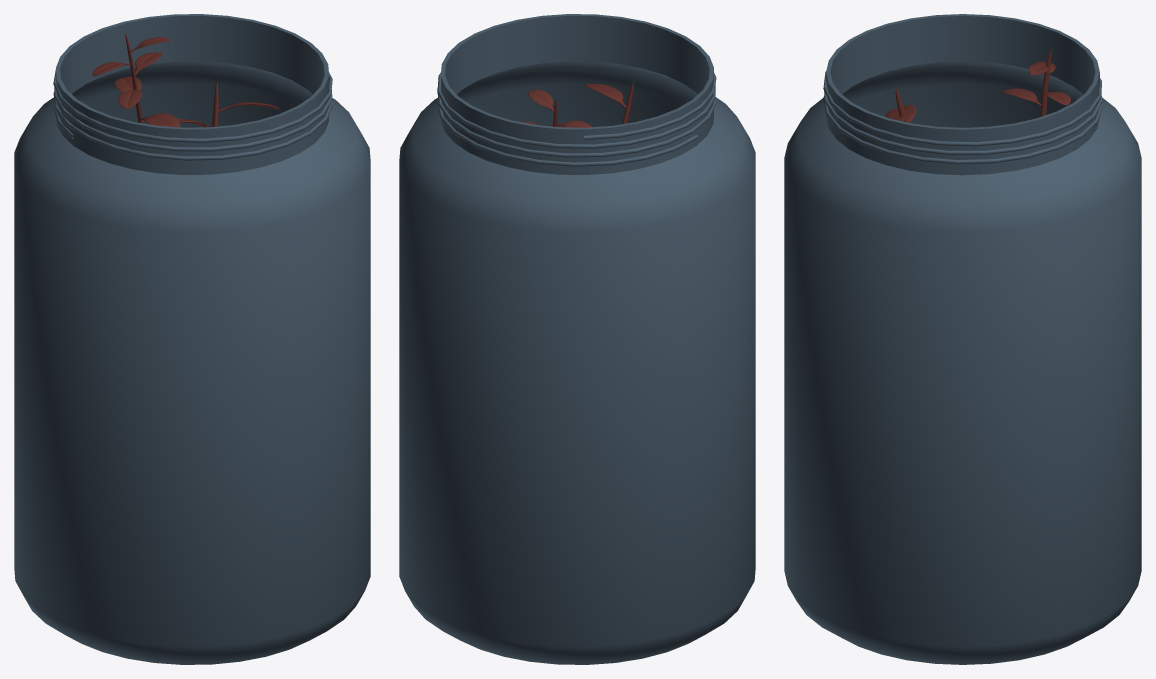
File: Jar_RedHerbs.fbx
3 renders of one model, left to right at view 1: azimuth 30°, elevation 25°; view 2: azimuth 150°, elevation 25°; view 3: azimuth 270°, elevation 25°, orthographic.
Visible parts, largest first — view 1: jar_with_herbsRed; view 2: jar_with_herbsRed; view 3: jar_with_herbsRed.
Part boxes in pixels (<box>): jar_with_herbsRed: <box>14,14,370,664</box>; jar_with_herbsRed: <box>399,14,755,664</box>; jar_with_herbsRed: <box>784,14,1141,664</box>.
Size of the model in its own units: 37.64 by 63.15 by 37.64.
